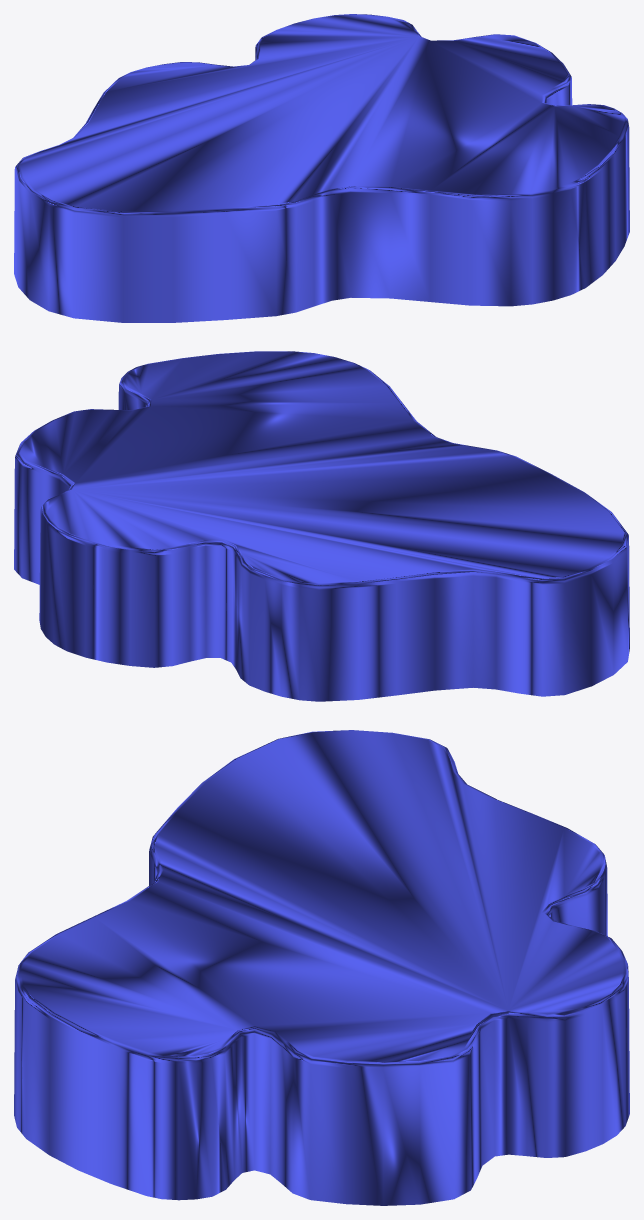
File: lorville_noflyzone_suburb_redout_09.glb
3 renders of one model, top to bottom at view 1: azimuth 30°, elevation 25°; view 2: azimuth 150°, elevation 25°; view 3: azimuth 270°, elevation 25°, orthographic. The views are drawn at different scales.
Size of the model in its own units: 8159 by 1591 by 6297.
